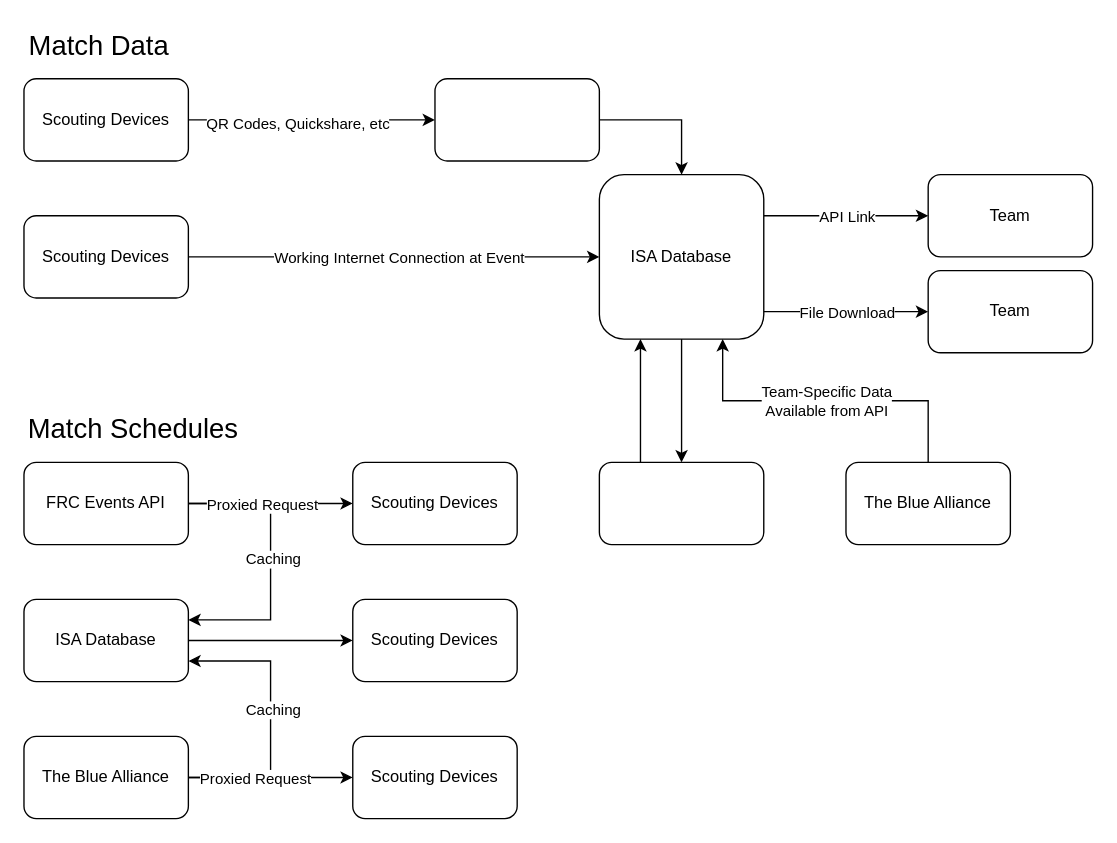
The diagram is 1117 pixels wide and 843 high, and some of its shapes have lost their labels. The centre of each missing label's shape, as x and y in pixels:
Relay Tablet w/ Internet: point 516,119
Semi-Live Error Checking Device: point 681,503
